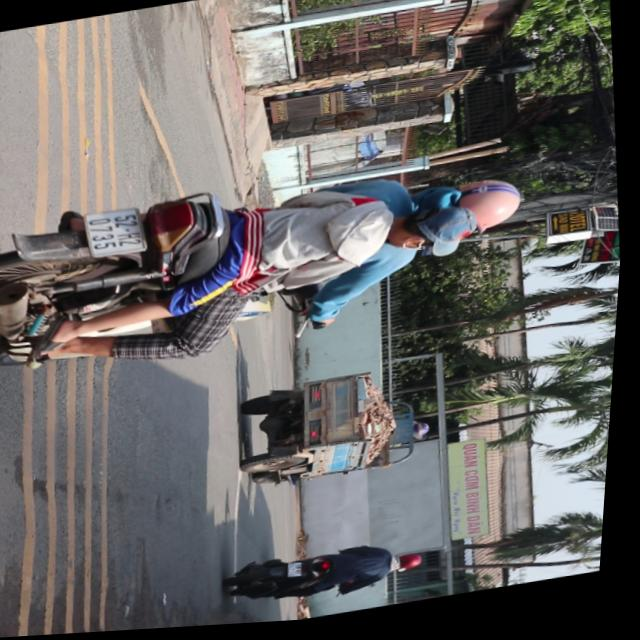helmet: (448, 179, 528, 242), (401, 554, 432, 576)
licenseplate: (0, 135, 543, 396), (230, 537, 436, 615)
motorcyclist: (384, 204, 484, 268)
nohelmet: (86, 206, 149, 261), (295, 565, 311, 580)
